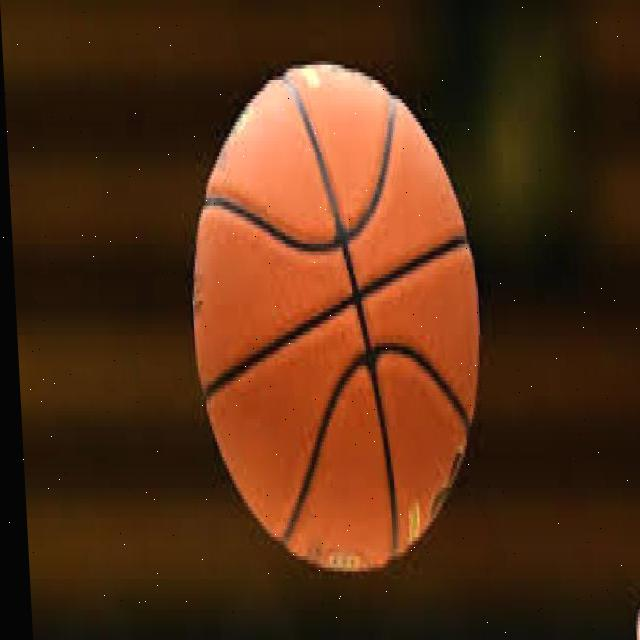Basketball: (181, 67, 491, 564)
